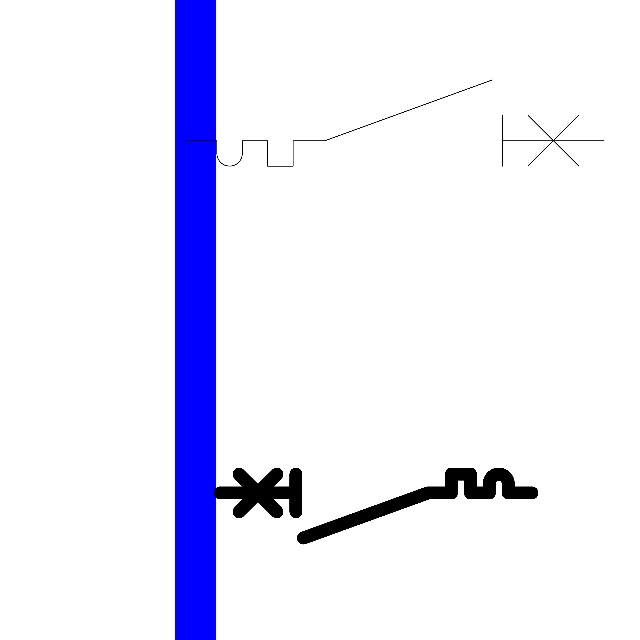interruptor_termomagnetico: (174, 69, 615, 177), (212, 466, 540, 546)
